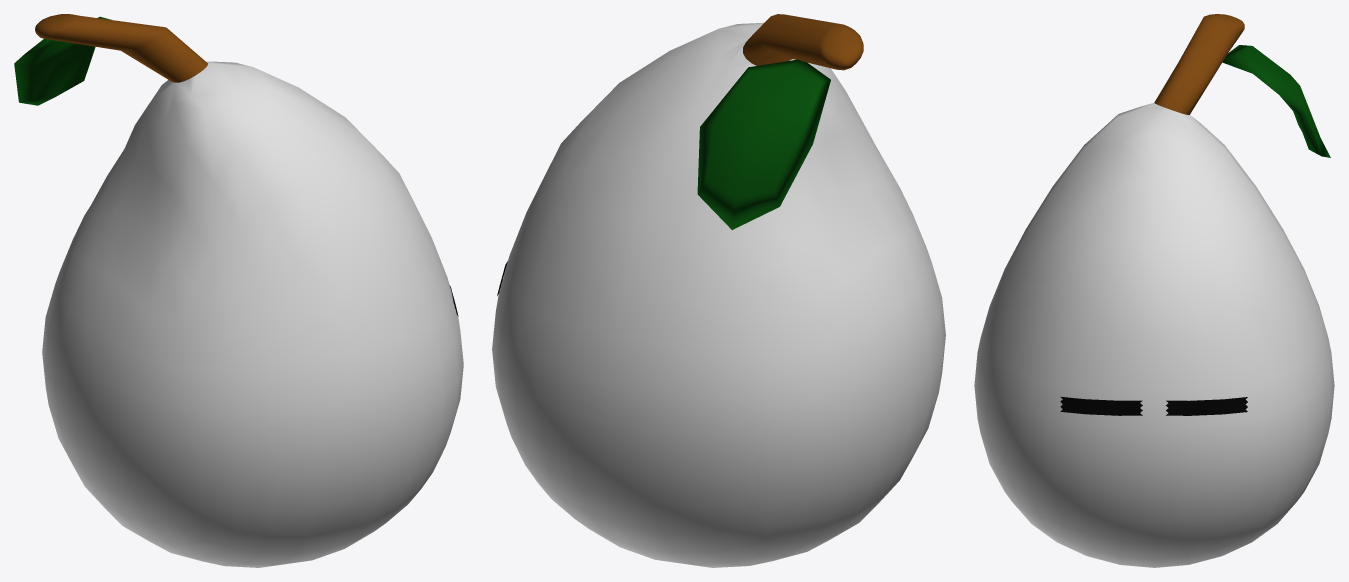
The model's file is GrassSlime.glb.
3 views of the same model, side by side, from view 1: azimuth 30°, elevation 25°; view 2: azimuth 150°, elevation 25°; view 3: azimuth 270°, elevation 25° (orthographic). The views are drawn at different scales.
Visible parts, largest first — view 1: Plant; view 2: Plant; view 3: Plant.
Boxes of the visible parts, left/top/right/bottom form: Plant: left=14, top=14, right=463, bottom=567; Plant: left=492, top=14, right=945, bottom=567; Plant: left=974, top=14, right=1334, bottom=567.
Size of the model in its own units: 1.68 by 2.42 by 1.68.
